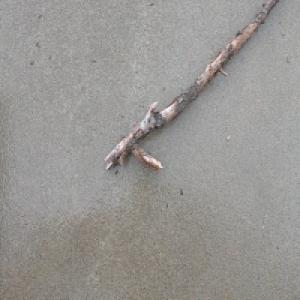Wood: (103, 0, 281, 174)
